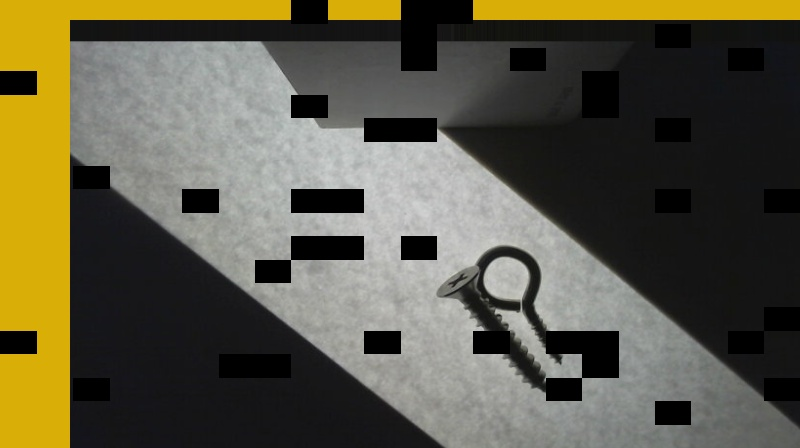O001: (470, 243, 564, 366)
S001: (433, 261, 550, 393)
